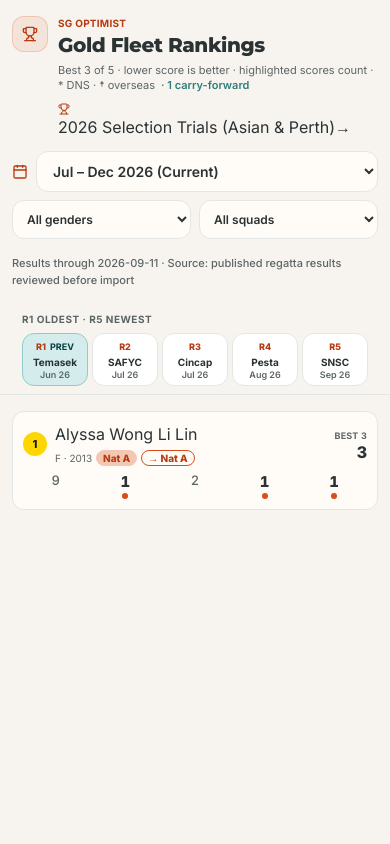
Test: FleetRankingsView mobile board › keeps event names on the rail and shows squad chips
expect the text "Temasek" is shown once: met, box [33, 356, 77, 368]
expect the text "SNSC" is shown once: met, box [321, 356, 349, 368]
Step 1. Click the button "R5 SNSC Sep 26" → point(335, 360), box [302, 333, 368, 386]
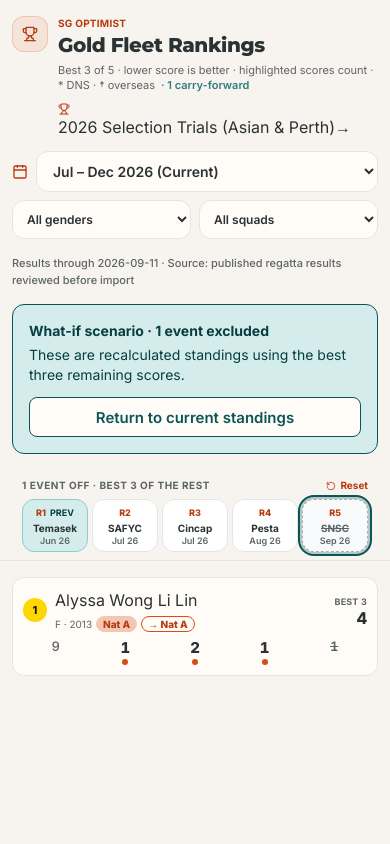
expect the text "1 event off · Best 3 of the rest" is shown: met, box [22, 478, 210, 493]
Step 2. Click the button "Reset" → point(347, 486), box [326, 478, 368, 493]
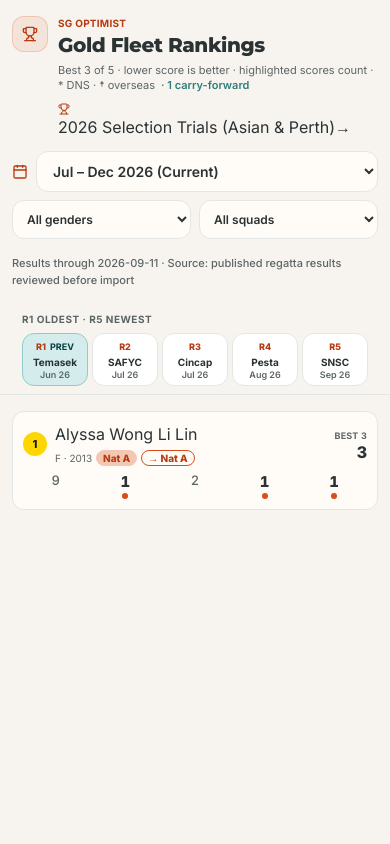
expect the button "Reset" is gone: met
